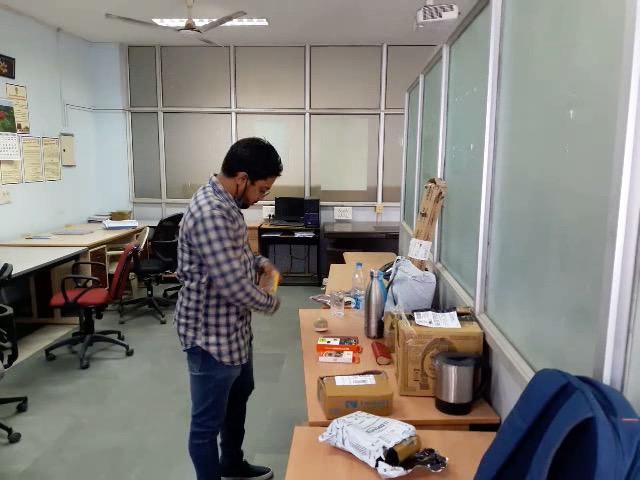shoplifting: (172, 230, 326, 347)
